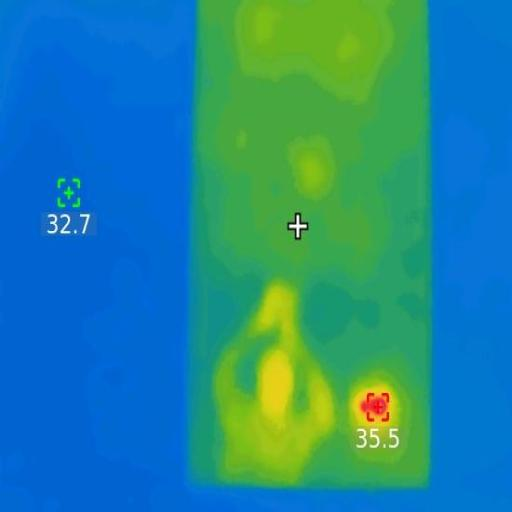hotspot: (361, 391, 391, 421)
